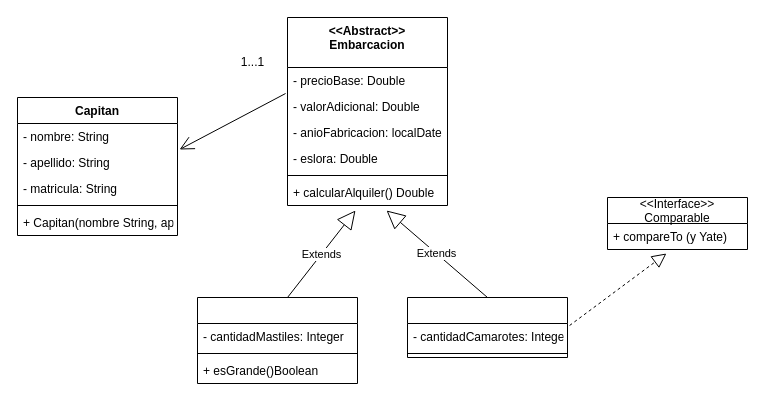
This 765x404 diagram has some shape labels left out. Each missing label, with the box of its shape:
Velero: (196, 296, 358, 384)
Yate: (406, 296, 568, 358)
